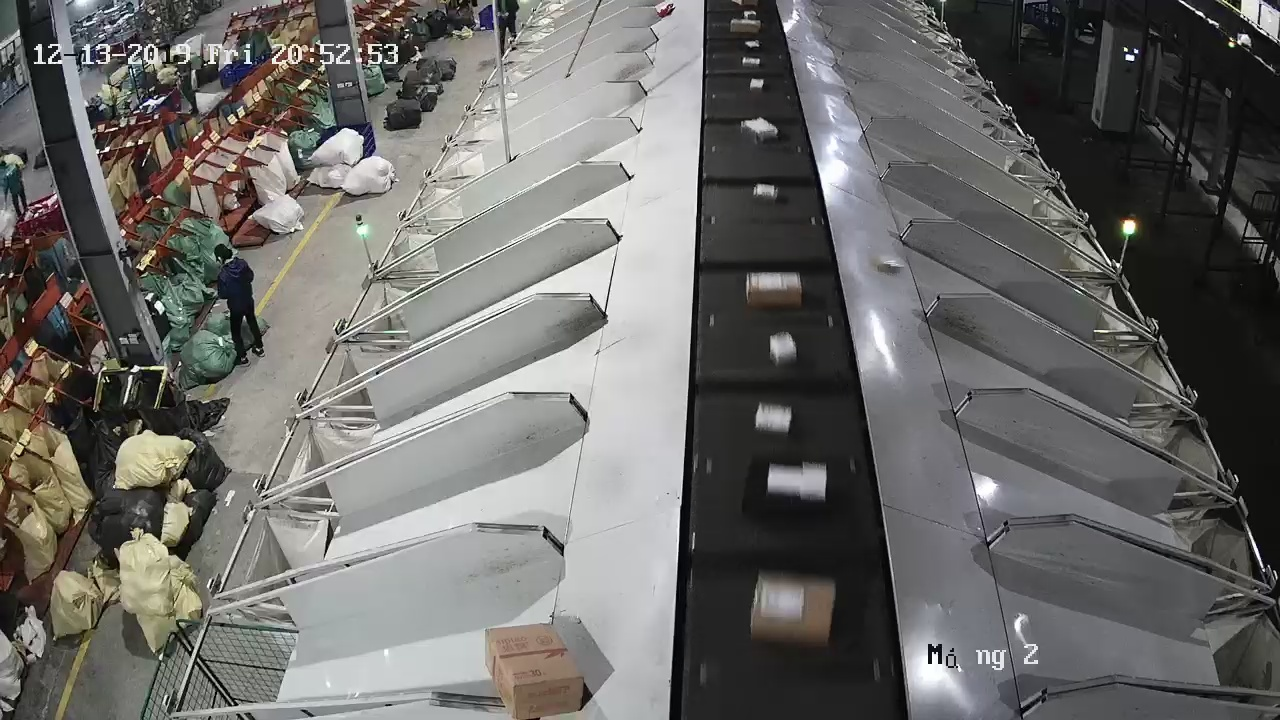parcel: (876, 256, 902, 276)
